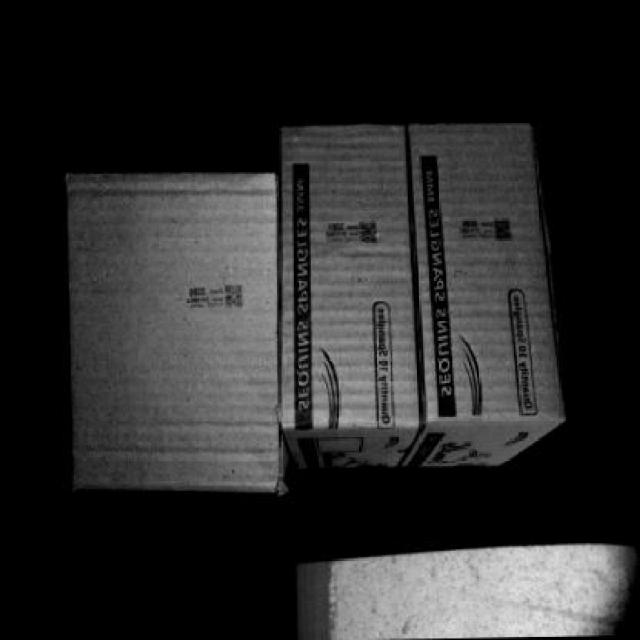cardboxes: (69, 167, 280, 491), (268, 130, 412, 438), (418, 112, 558, 422)
